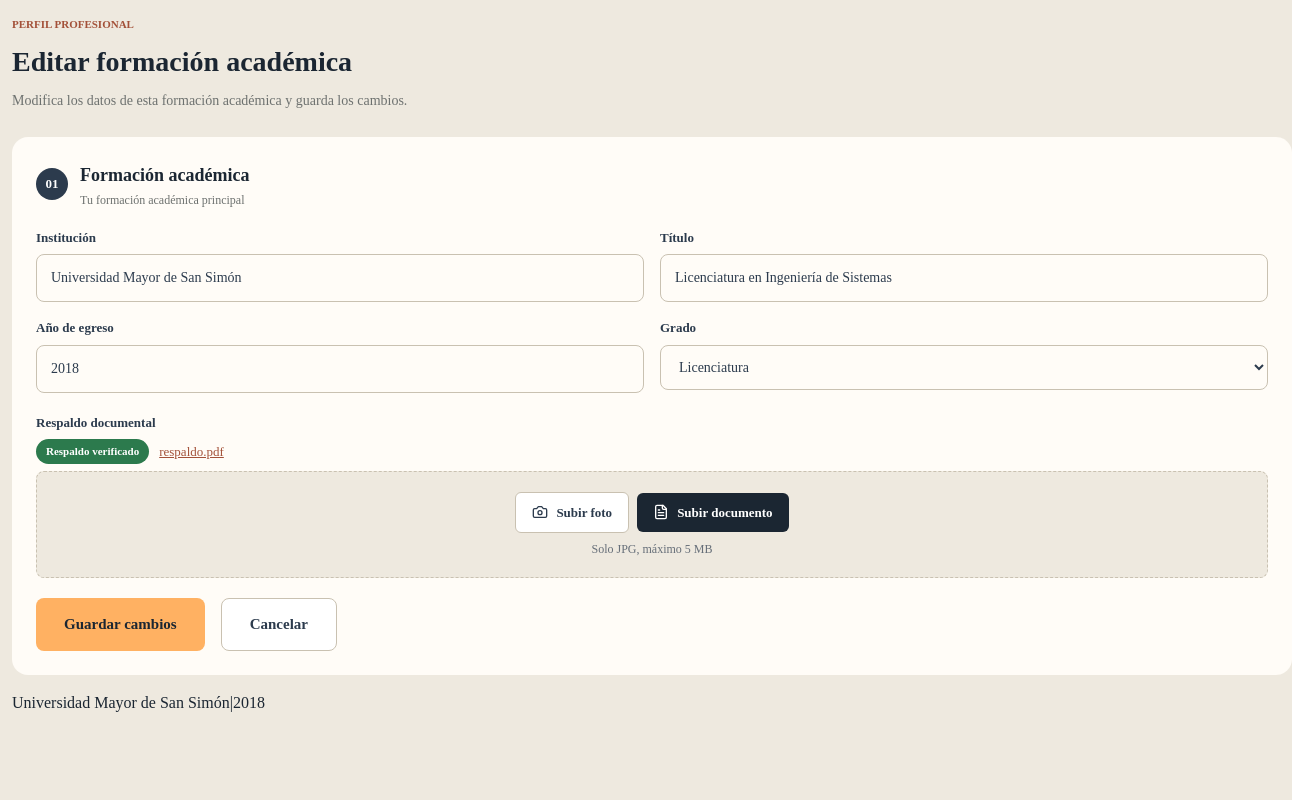
Test: EditEducationForm › carga la formación elegida y guarda los cambios con PUT en la API y en el estado compartido
The image size is (1292, 800).
Expected: the field labelled "Año de egreso" holds "2018", [36,344,644,392]
Replace the text in the field labelled "Institución" with "UMSS". click: (340, 278)
box: [36,254,644,302]
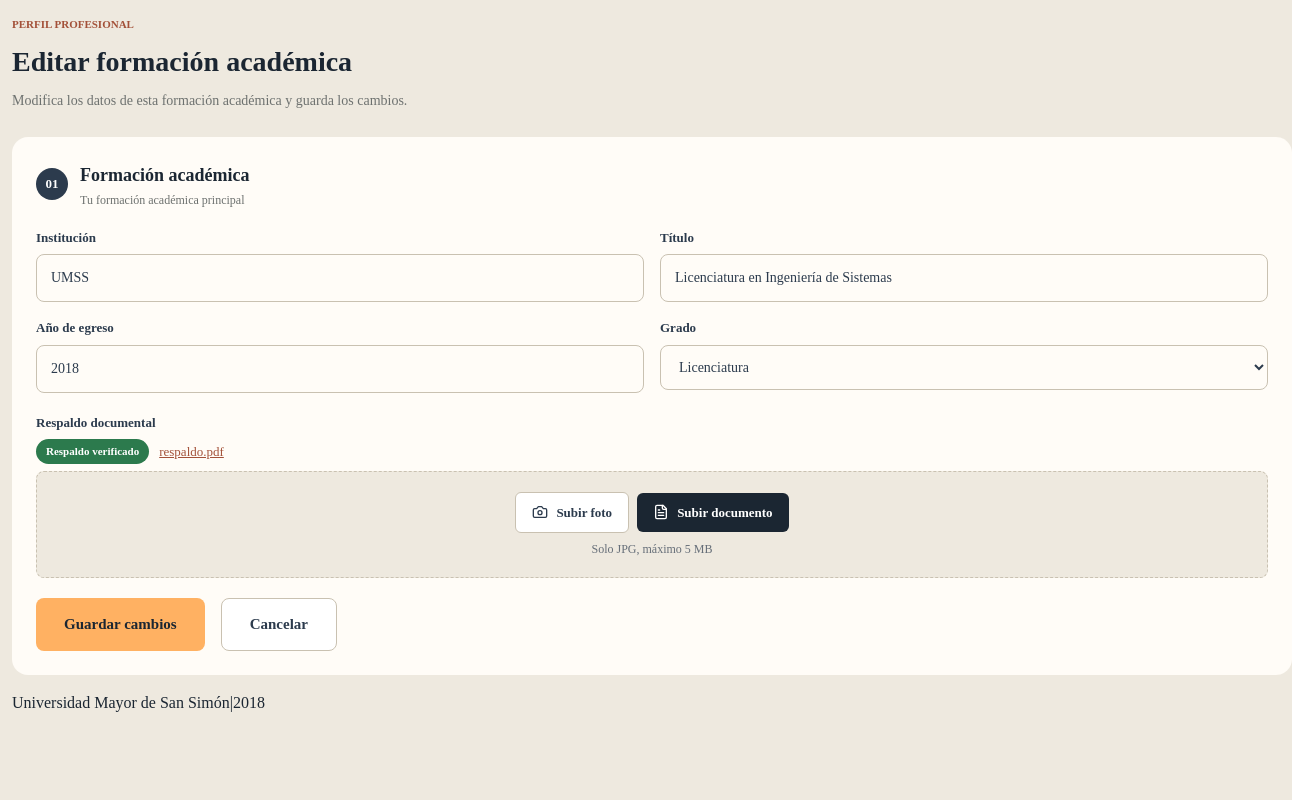
Replace the text in the field labelled "Año de egreso" with "20a19". click: (340, 368)
box: [36,344,644,392]
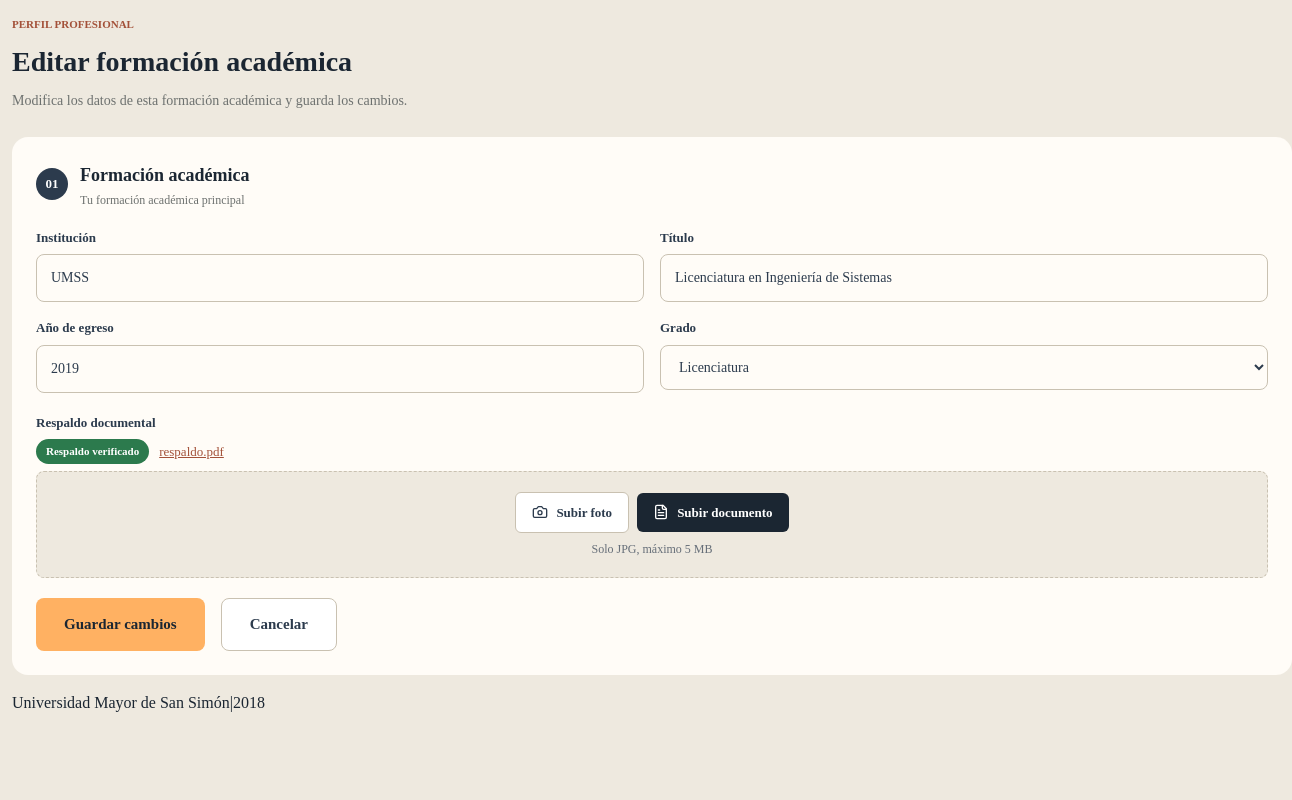
Click the button "Guardar cambios". click: (120, 624)
box: [36,598,205,650]
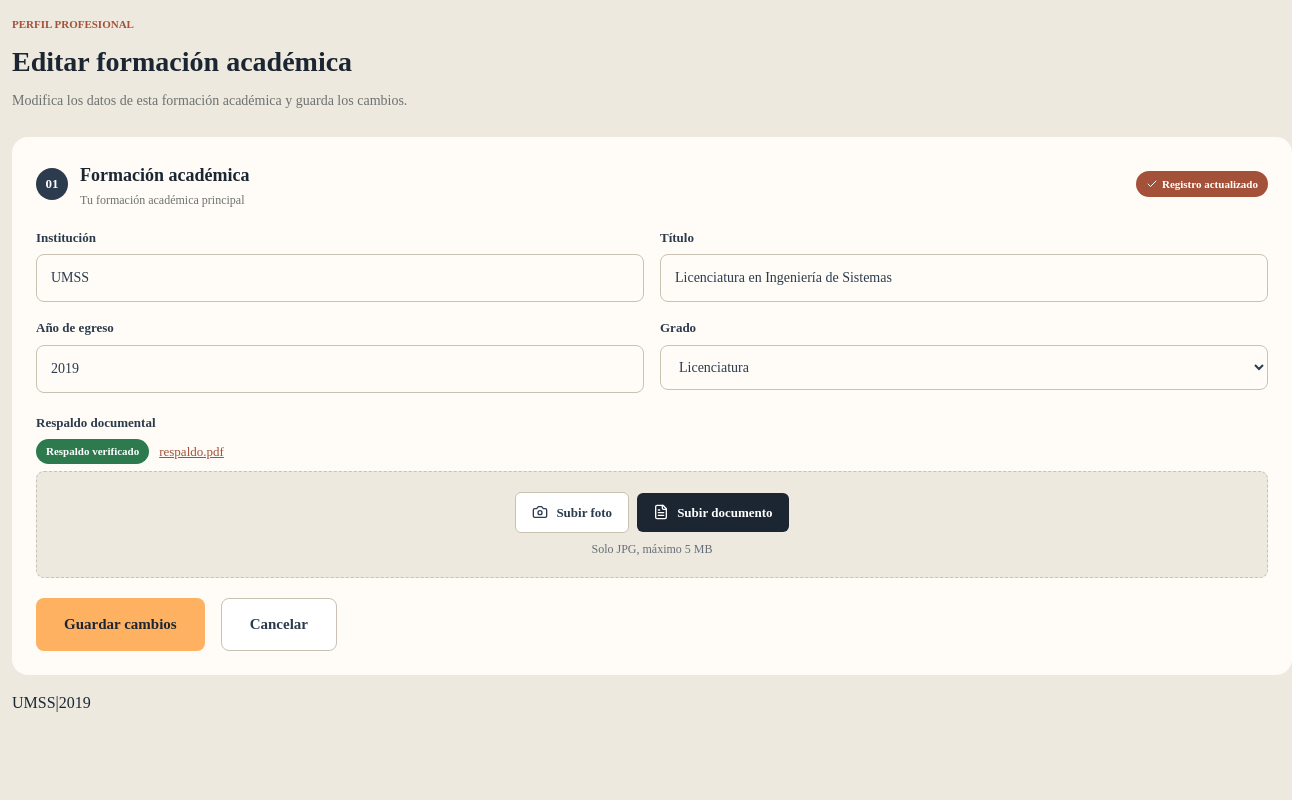
Expected: the message reads "Registro actualizado", [1162,178,1258,190]
Expected: the text with test id "guardado" reads "UMSS|2019", [12,694,91,710]
